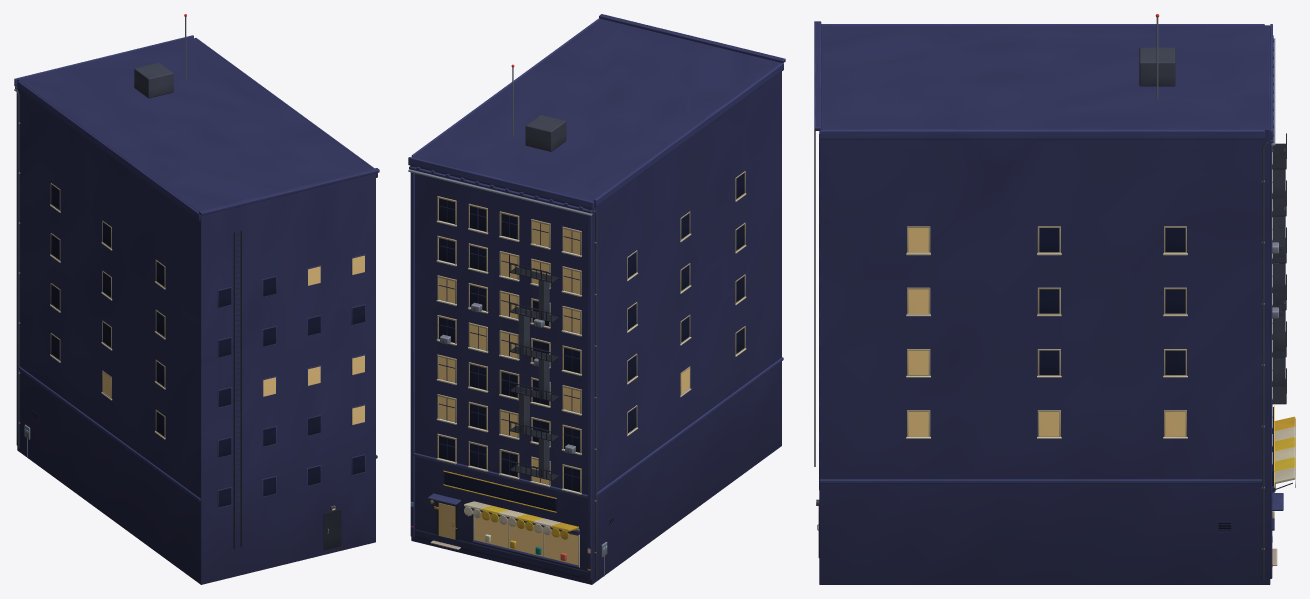
File: SM_City_Bld_HotelContinental.fbx
The picture shows the model from 3 angles, left to right: view 1: azimuth 30°, elevation 25°; view 2: azimuth 150°, elevation 25°; view 3: azimuth 270°, elevation 25°; orthographic projection. The views are drawn at different scales.
Parts seen in each view (by area): view 1: SM_City_Bld_HotelContinental; view 2: SM_City_Bld_HotelContinental; view 3: SM_City_Bld_HotelContinental.
Boxes of the visible parts, x1=… form: SM_City_Bld_HotelContinental: x1=14, y1=14, x2=379, y2=584; SM_City_Bld_HotelContinental: x1=408, y1=14, x2=785, y2=584; SM_City_Bld_HotelContinental: x1=814, y1=14, x2=1295, y2=584.
Bounding box in the file's own units: 1127 × 2642 × 2137.
